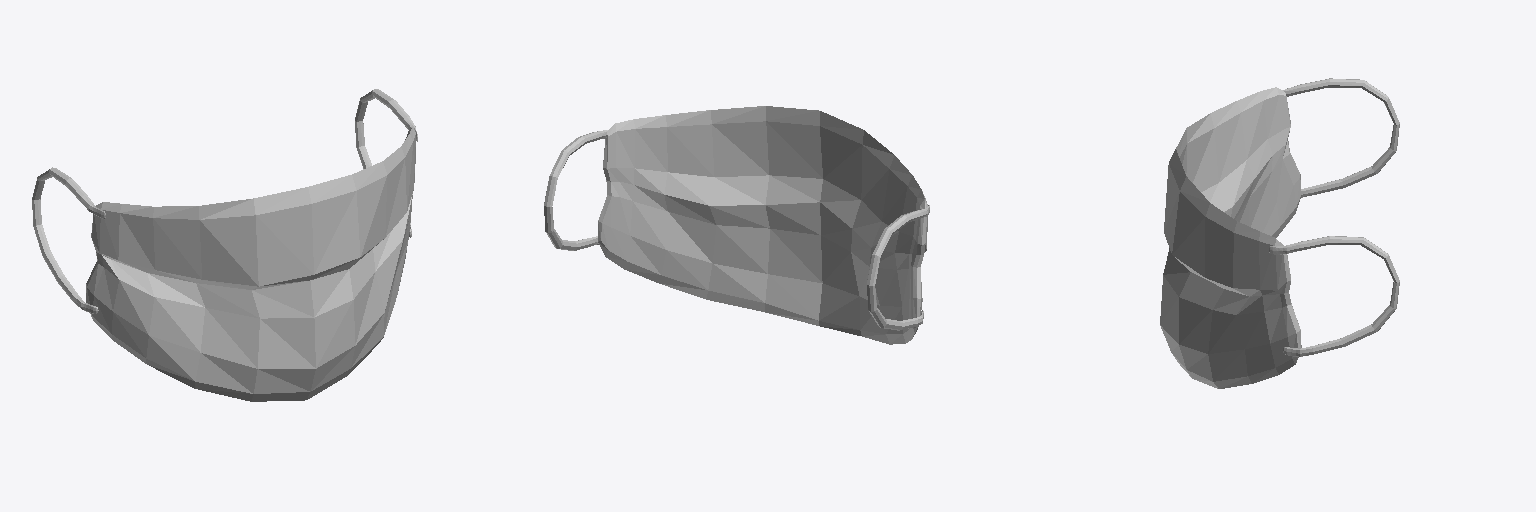
Rendered from Mouthmask.obj.
3 views of the same model, side by side, from view 1: azimuth 30°, elevation 25°; view 2: azimuth 150°, elevation 25°; view 3: azimuth 270°, elevation 25° (orthographic).
Parts seen in each view (by area): view 1: Plane, Plane.001; view 2: Plane, Plane.001; view 3: Plane, Plane.001.
Boxes of the visible parts, box(x1,y1,x2,y2) form: Plane: box(86, 127, 415, 401); Plane.001: box(32, 89, 417, 313); Plane: box(598, 106, 927, 344); Plane.001: box(544, 130, 929, 330); Plane: box(1160, 87, 1301, 388); Plane.001: box(1269, 78, 1399, 356).
Bounding box in the file's own units: 3.97 × 2.44 × 2.47.